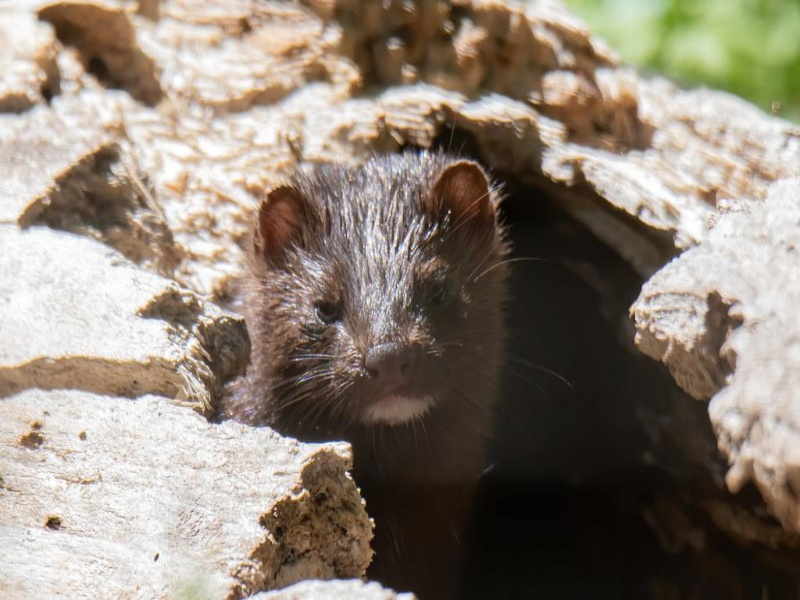minkish: (218, 153, 506, 466)
